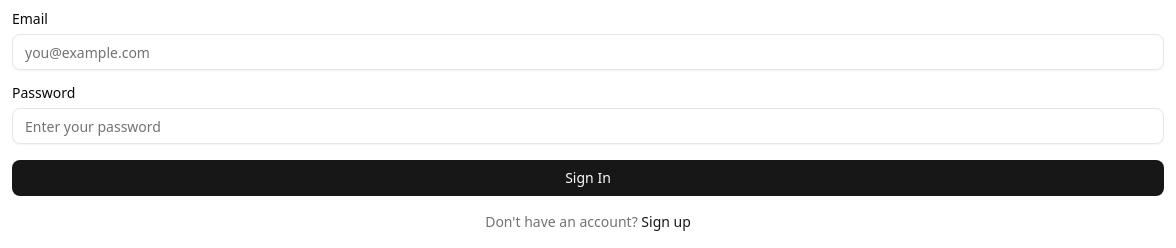
LoginForm › disables inputs while loading
This screenshot has width=1176, height=248.
In the field labelled "Email": (588, 52) x1=12 y1=34 x2=1164 y2=70, type "test@example.com"
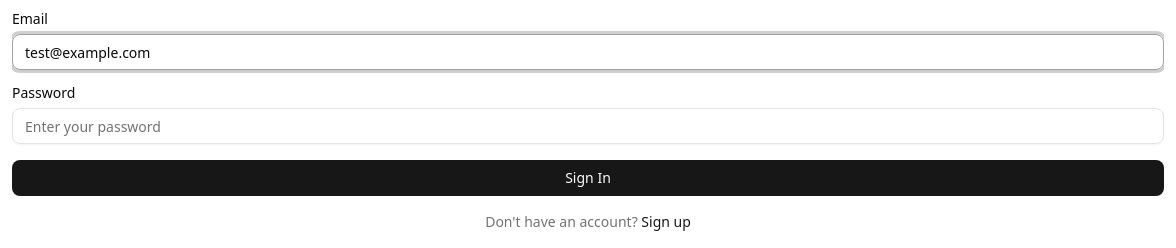
In the password field labelled "Password": (588, 126) x1=12 y1=108 x2=1164 y2=144, type "password123"
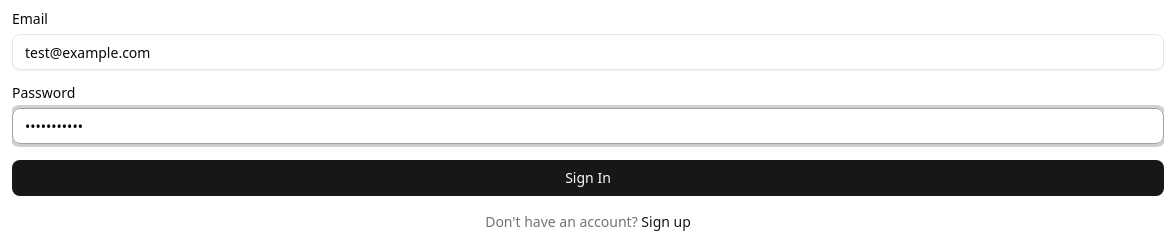
Click the button "Sign In": (588, 178) x1=12 y1=160 x2=1164 y2=196
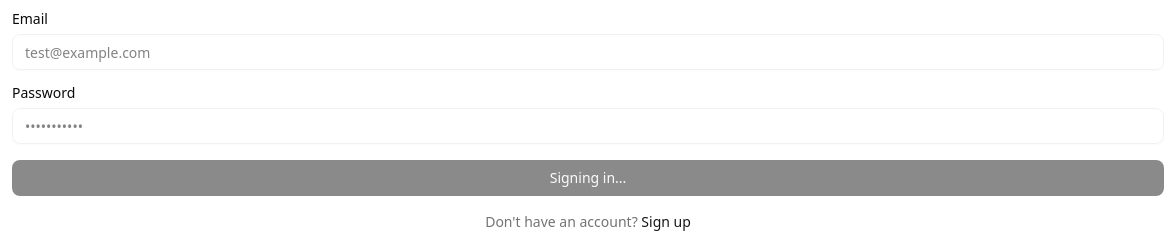
Expected: the field labelled "Email" is disabled, x1=12 y1=34 x2=1164 y2=70
Expected: the password field labelled "Password" is disabled, x1=12 y1=108 x2=1164 y2=144
Expected: the button "Signing in..." is disabled, x1=12 y1=160 x2=1164 y2=196
